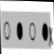correct: (16, 17, 23, 44)
not correct: (41, 20, 54, 47)
